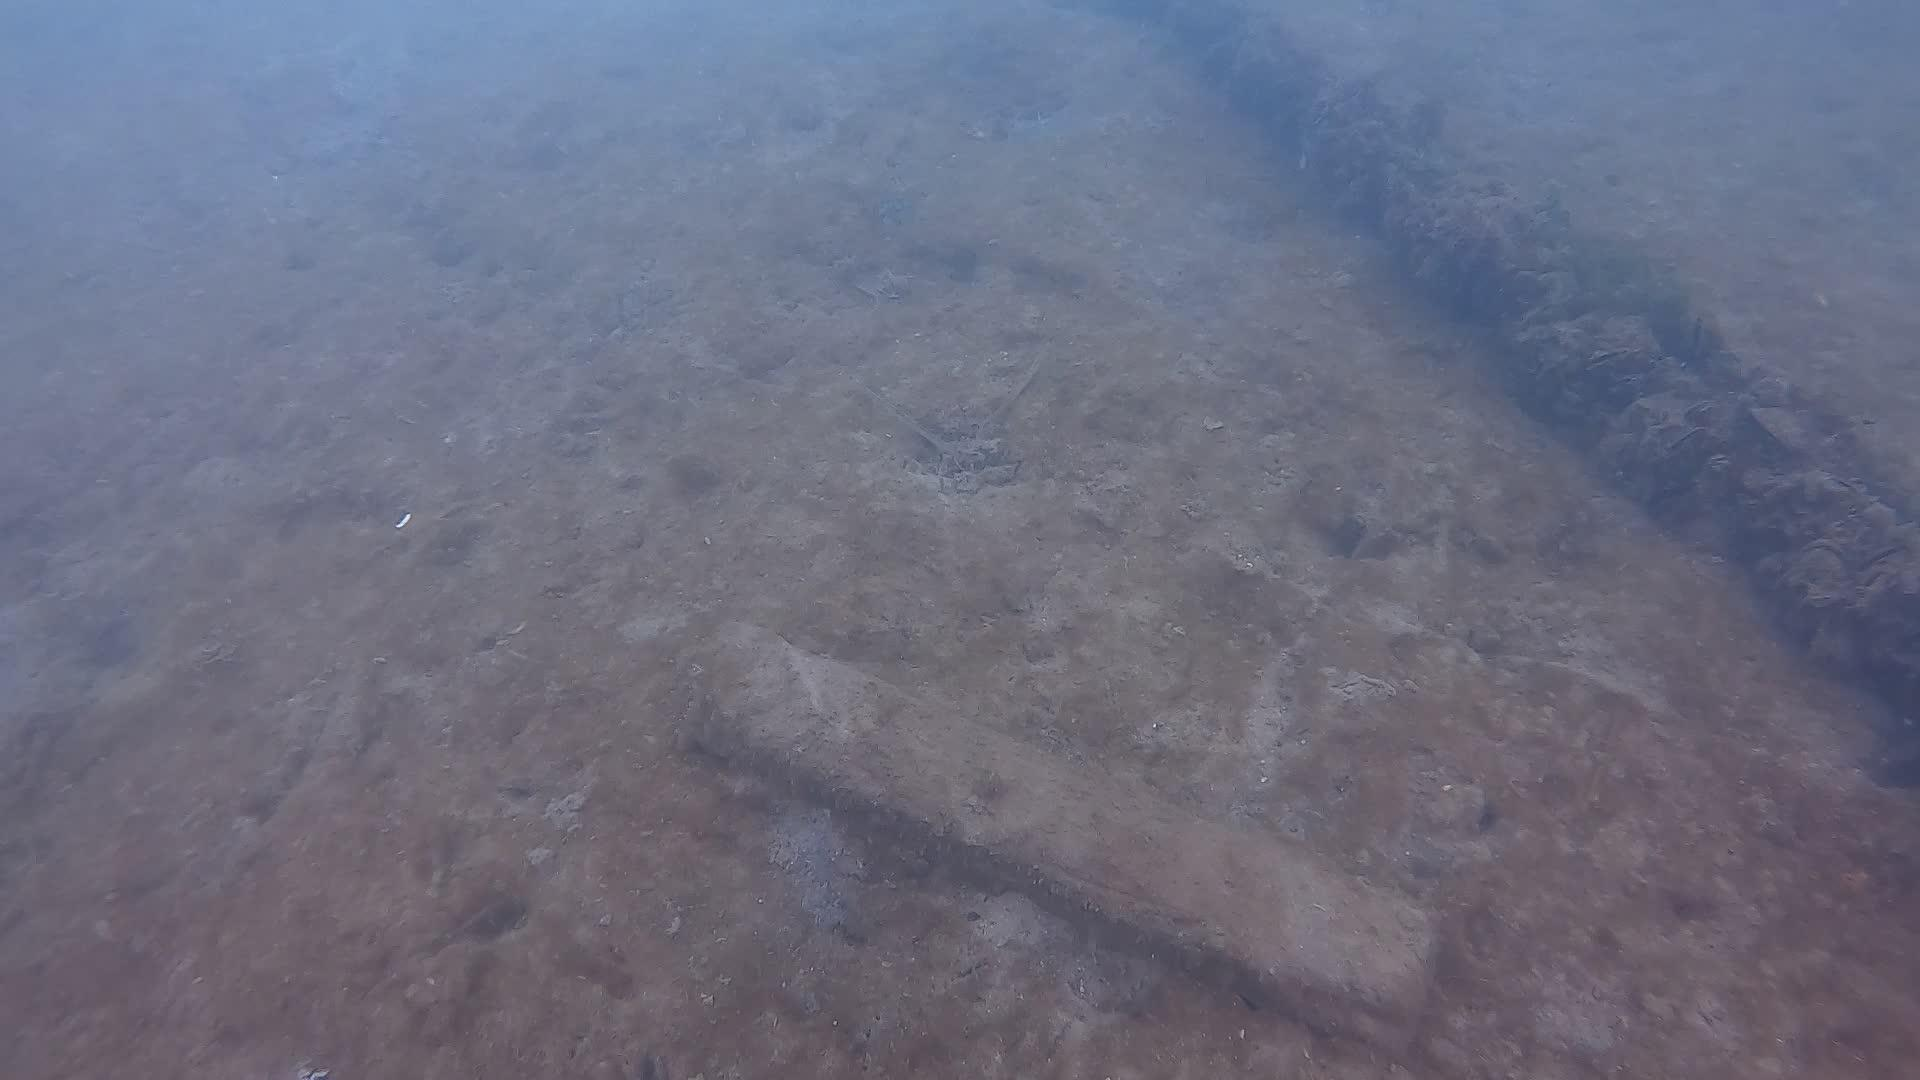wood: (667, 615, 1443, 1064)
